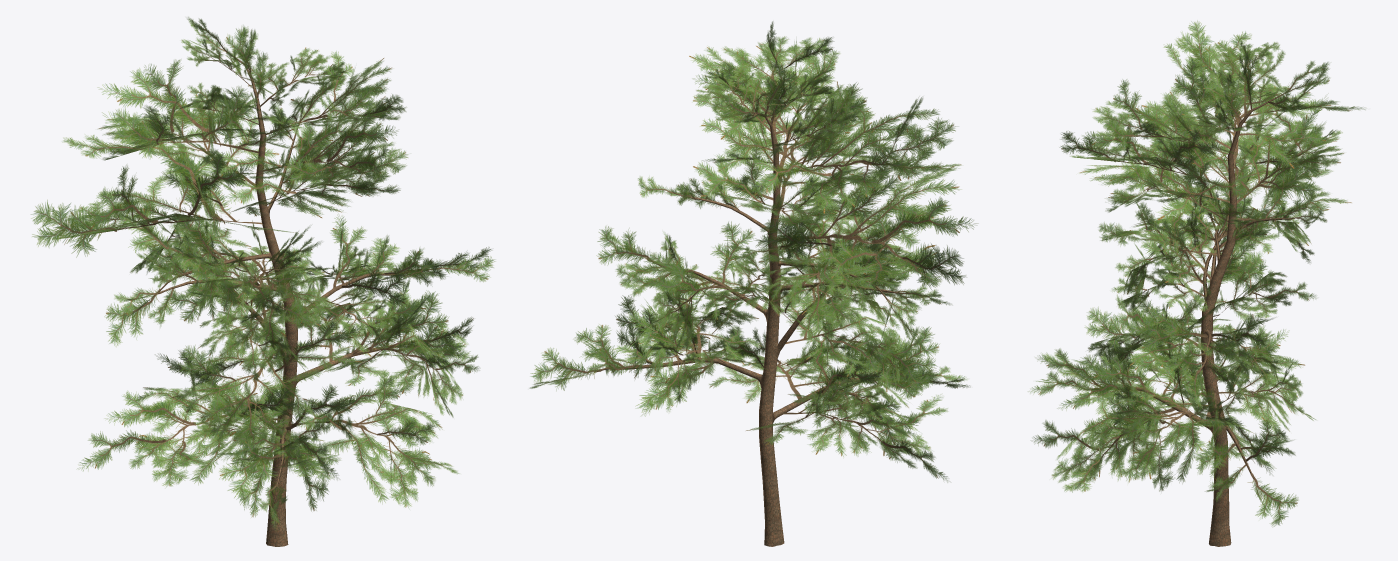
File: pine_pine_small_2_lod0.gltf
3 renders of one model, left to right at view 1: azimuth 30°, elevation 25°; view 2: azimuth 150°, elevation 25°; view 3: azimuth 270°, elevation 25°, orthographic. The views are drawn at different scales.
Parts seen in each view (by area): view 1: Pine_small_2_LOD0_Clusters_Mat_0, Pine_small_2_LOD0_Bark_Mat_0; view 2: Pine_small_2_LOD0_Clusters_Mat_0, Pine_small_2_LOD0_Bark_Mat_0; view 3: Pine_small_2_LOD0_Clusters_Mat_0, Pine_small_2_LOD0_Bark_Mat_0.
Boxes of the visible parts, bbox=[...] form: Pine_small_2_LOD0_Clusters_Mat_0: bbox=[31, 17, 495, 530]; Pine_small_2_LOD0_Bark_Mat_0: bbox=[158, 58, 429, 546]; Pine_small_2_LOD0_Clusters_Mat_0: bbox=[529, 21, 977, 482]; Pine_small_2_LOD0_Bark_Mat_0: bbox=[595, 112, 901, 546]; Pine_small_2_LOD0_Clusters_Mat_0: bbox=[1028, 20, 1365, 526]; Pine_small_2_LOD0_Bark_Mat_0: bbox=[1083, 93, 1296, 546].
Bounding box in the file's own units: 3.82 × 4.04 × 2.74.
Materials: 2 (2 with a texture image).
